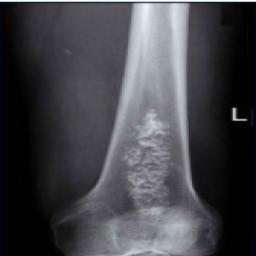cancer: (123, 109, 172, 219)
